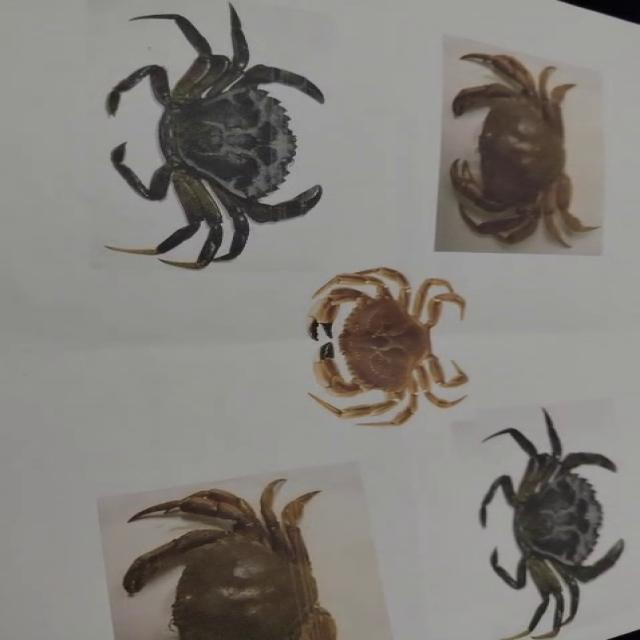egc: (106, 4, 323, 270), (481, 410, 621, 638)
